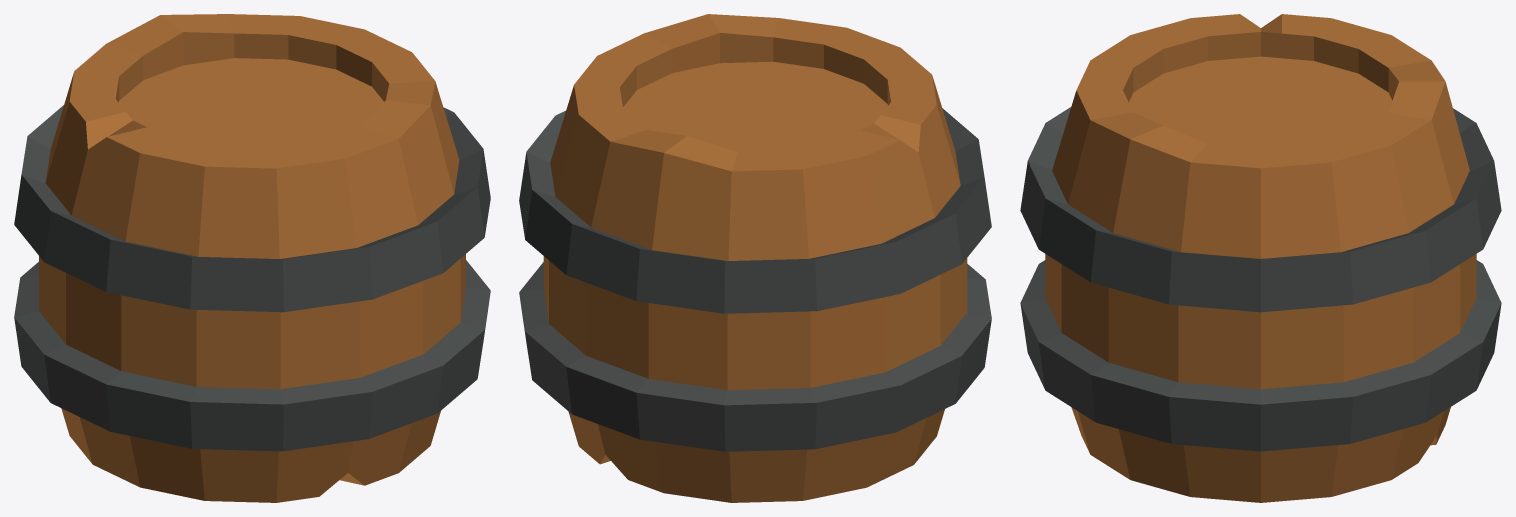
Rendered from Barrel.glb.
3 renders of one model, left to right at view 1: azimuth 30°, elevation 25°; view 2: azimuth 150°, elevation 25°; view 3: azimuth 270°, elevation 25°, orthographic.
Visible parts, largest first — view 1: barrel_; view 2: barrel_; view 3: barrel_.
Boxes of the visible parts, <box> form: barrel_: <box>14,14,490,502</box>; barrel_: <box>519,14,991,502</box>; barrel_: <box>1020,14,1501,502</box>.
Size of the model in its own units: 2.61 by 2.05 by 2.61.
